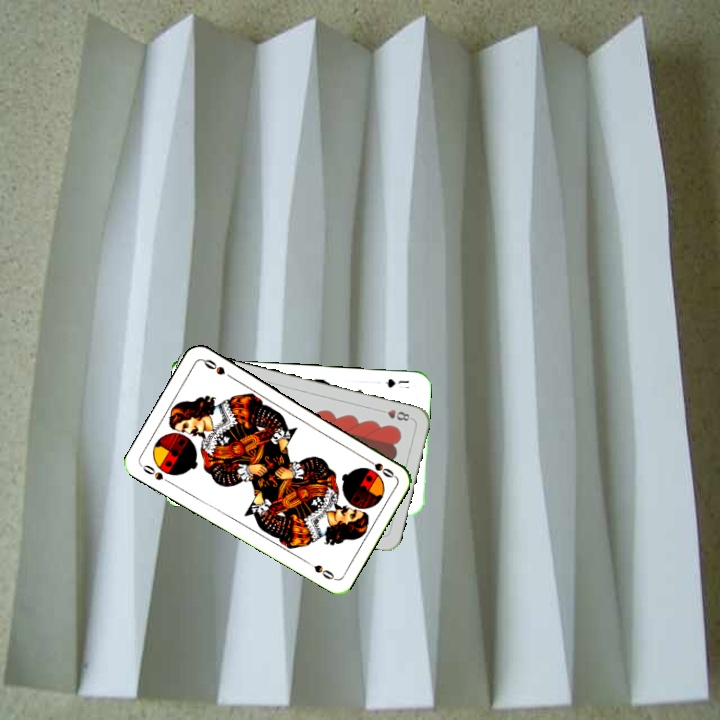GU: (381, 375, 411, 390)
H8: (375, 405, 415, 424)
SO: (360, 453, 397, 481), (137, 461, 174, 487)
